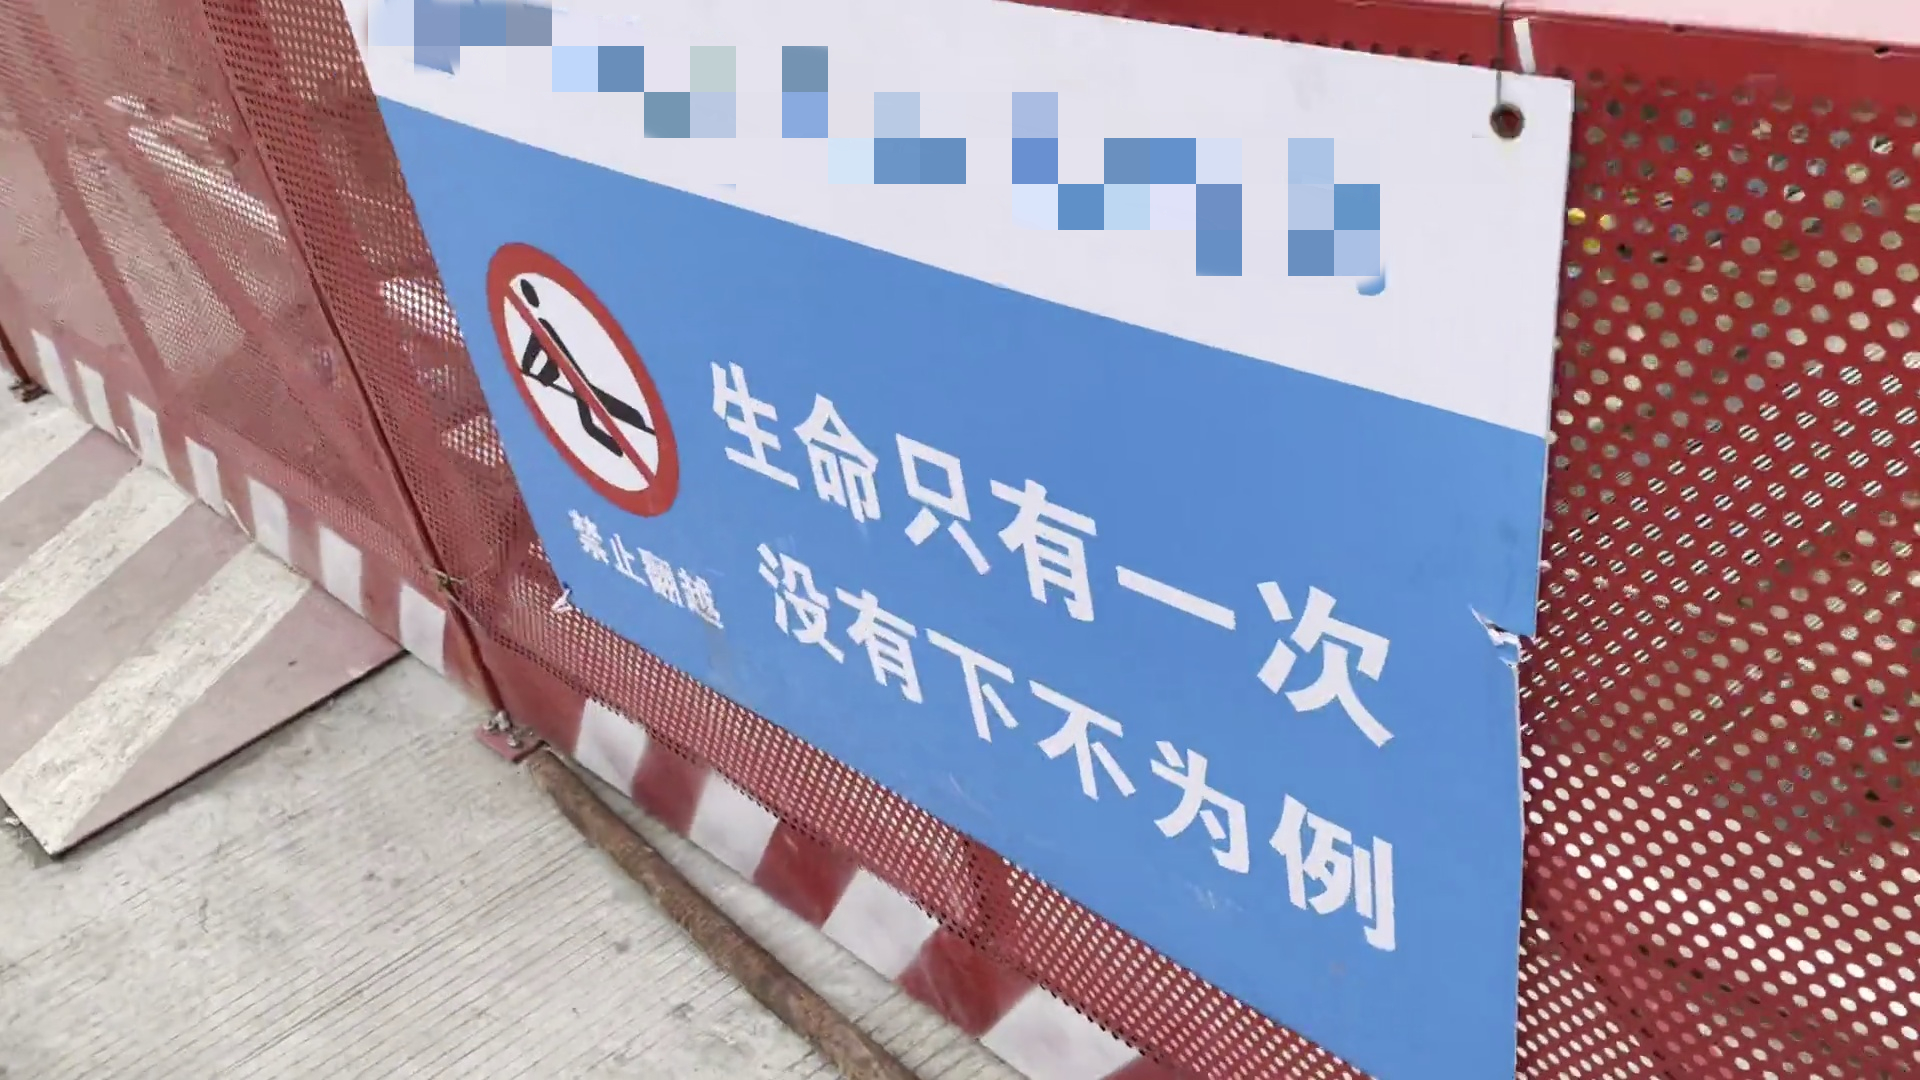fence: (560, 1, 1920, 1080), (1, 1, 570, 767), (600, 847, 607, 849)
slogan: (303, 1, 1598, 1080)
